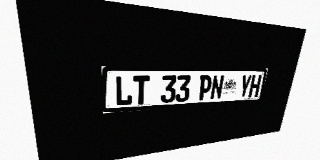3: (160, 75, 177, 103), (175, 75, 191, 102)
H: (248, 75, 262, 97)
L: (115, 76, 133, 106)
N: (210, 75, 225, 100)
P: (197, 75, 213, 101)
T: (133, 75, 150, 105)
Y: (238, 75, 252, 98)
